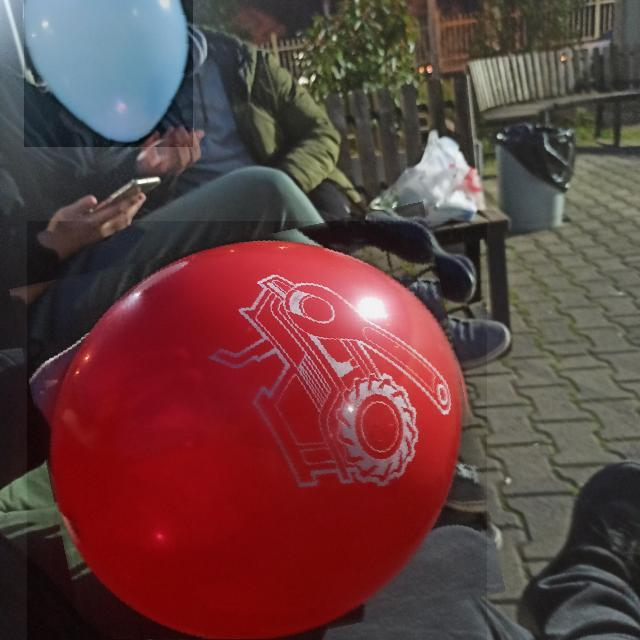balloon: (27, 221, 487, 640), (24, 0, 193, 147)
